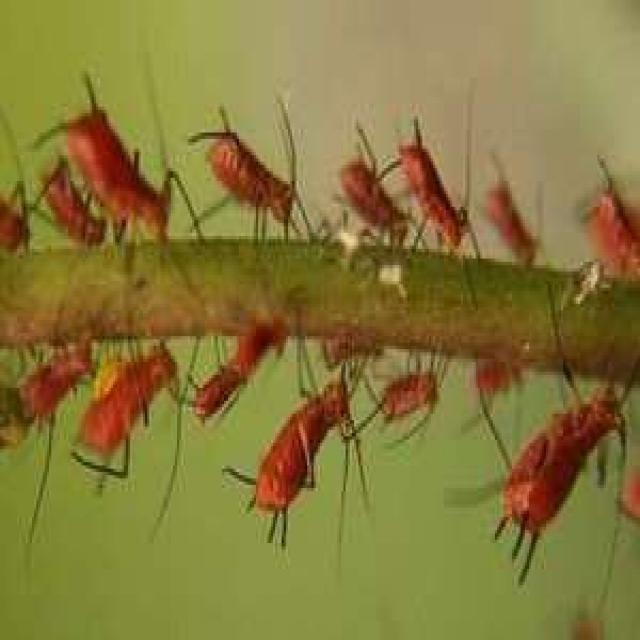aphid: (191, 313, 366, 536), (496, 340, 636, 555), (66, 102, 198, 245), (74, 337, 186, 498), (206, 100, 319, 237), (384, 120, 477, 266)
